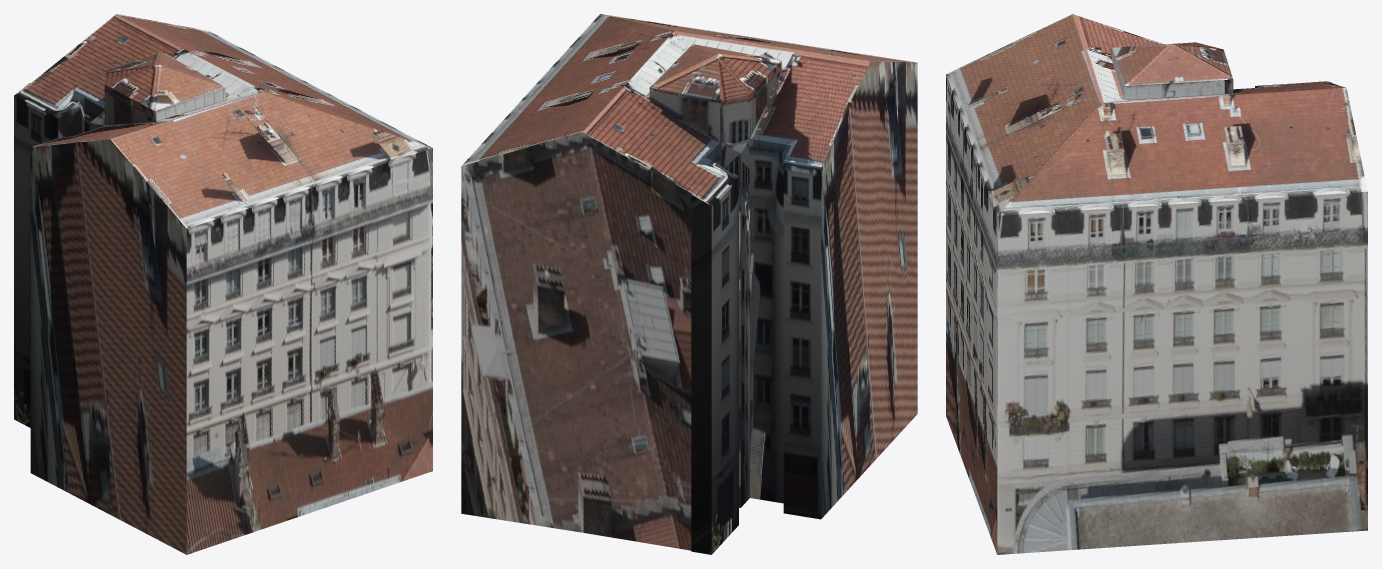
3 renders of one model, left to right at view 1: azimuth 30°, elevation 25°; view 2: azimuth 150°, elevation 25°; view 3: azimuth 270°, elevation 25°, orthographic. The views are drawn at different scales.
Visible parts, largest first — view 1: Z_UP; view 2: Z_UP; view 3: Z_UP.
Part boxes in pixels (bbox=[...]): Z_UP: bbox=[14, 14, 432, 554]; Z_UP: bbox=[461, 14, 917, 554]; Z_UP: bbox=[946, 14, 1367, 554].
Size of the model in its own units: 22.87 by 28.28 by 26.2.
Materials: 2 (1 with a texture image).
